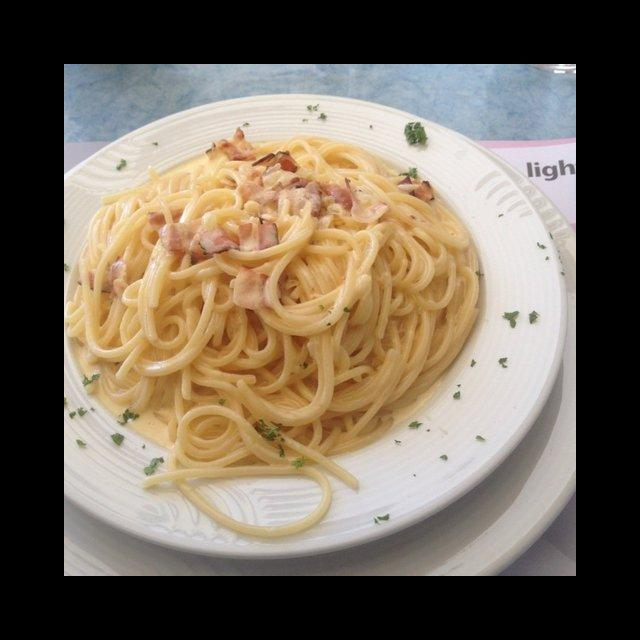noodles: (67, 135, 479, 534)
